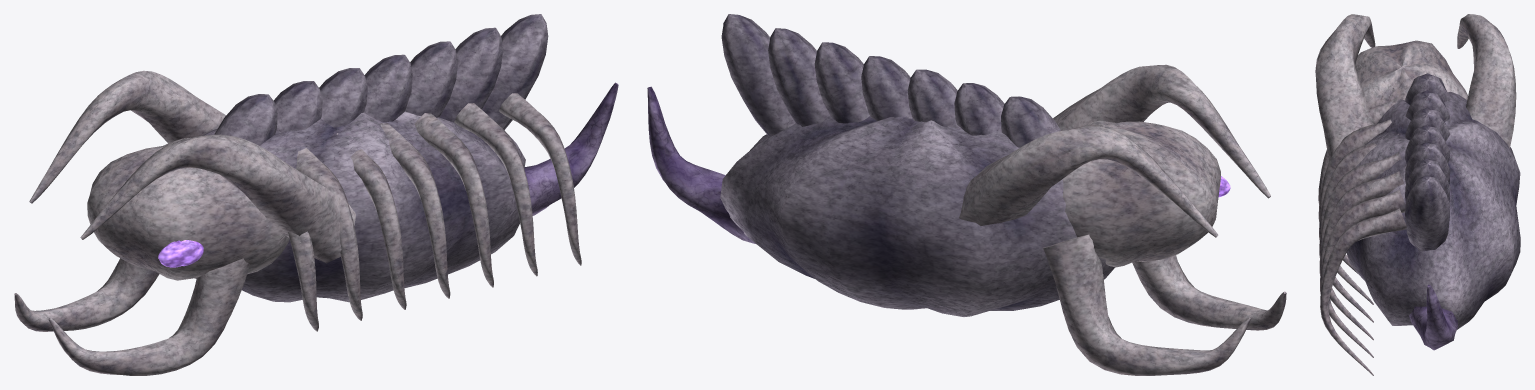
Rendered from marrow-stalker.glb.
3 views of the same model, side by side, from view 1: azimuth 30°, elevation 25°; view 2: azimuth 150°, elevation 25°; view 3: azimuth 270°, elevation 25° (orthographic). The views are drawn at different scales.
Parts seen in each view (by area): view 1: marrow-stalker_rib, marrow-stalker_carapace, marrow-stalker_membrane, marrow-stalker_signal; view 2: marrow-stalker_carapace, marrow-stalker_rib, marrow-stalker_membrane; view 3: marrow-stalker_carapace, marrow-stalker_rib, marrow-stalker_membrane.
Part boxes in pixels (x1=…): marrow-stalker_rib: x1=14, y1=70, x2=581, y2=375; marrow-stalker_carapace: x1=196, y1=14, x2=548, y2=302; marrow-stalker_membrane: x1=524, y1=82, x2=618, y2=215; marrow-stalker_signal: x1=158, y1=240, x2=203, y2=267; marrow-stalker_carapace: x1=720, y1=14, x2=1114, y2=316; marrow-stalker_rib: x1=959, y1=64, x2=1286, y2=375; marrow-stalker_membrane: x1=647, y1=86, x2=755, y2=243; marrow-stalker_carapace: x1=1346, y1=73, x2=1520, y2=329; marrow-stalker_rib: x1=1315, y1=14, x2=1516, y2=375; marrow-stalker_membrane: x1=1409, y1=285, x2=1457, y2=350.
Bounding box in the file's own units: 4.07 × 1.56 × 1.45.
Materials: 4 (4 with a texture image).
